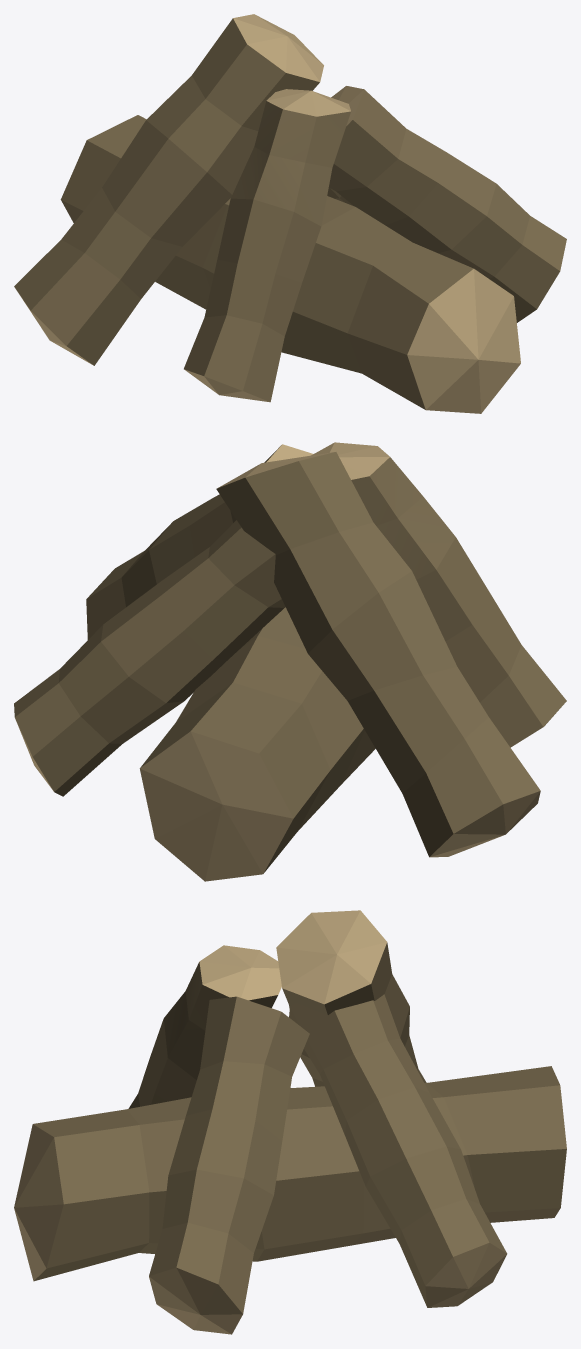
The model's file is Camp_campfire.fbx.
3 views of the same model, one above another, from view 1: azimuth 30°, elevation 25°; view 2: azimuth 150°, elevation 25°; view 3: azimuth 270°, elevation 25° (orthographic). The views are drawn at different scales.
Parts seen in each view (by area): view 1: pasted__pCylinder6; view 2: pasted__pCylinder6; view 3: pasted__pCylinder6.
Part boxes in pixels (<box>): pasted__pCylinder6: <box>14,14,566,413</box>; pasted__pCylinder6: <box>14,442,566,881</box>; pasted__pCylinder6: <box>14,910,566,1334</box>.
Bounding box in the file's own units: 1.25 × 0.8016 × 1.23.
